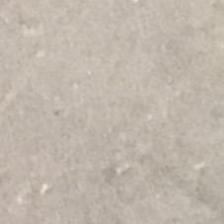Non_Crack: (15, 5, 224, 224)
